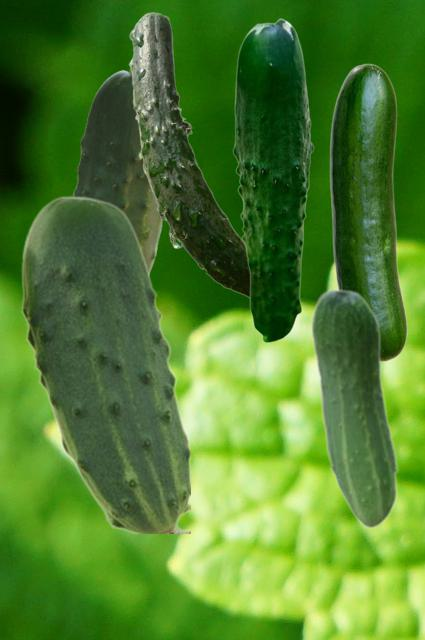cucumber: (21, 195, 189, 532), (128, 12, 248, 298), (232, 18, 313, 342), (329, 63, 406, 361), (310, 287, 398, 528), (71, 70, 164, 275)
